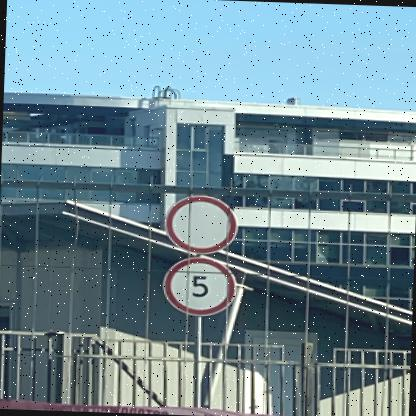speedlimit: (160, 254, 235, 316)
